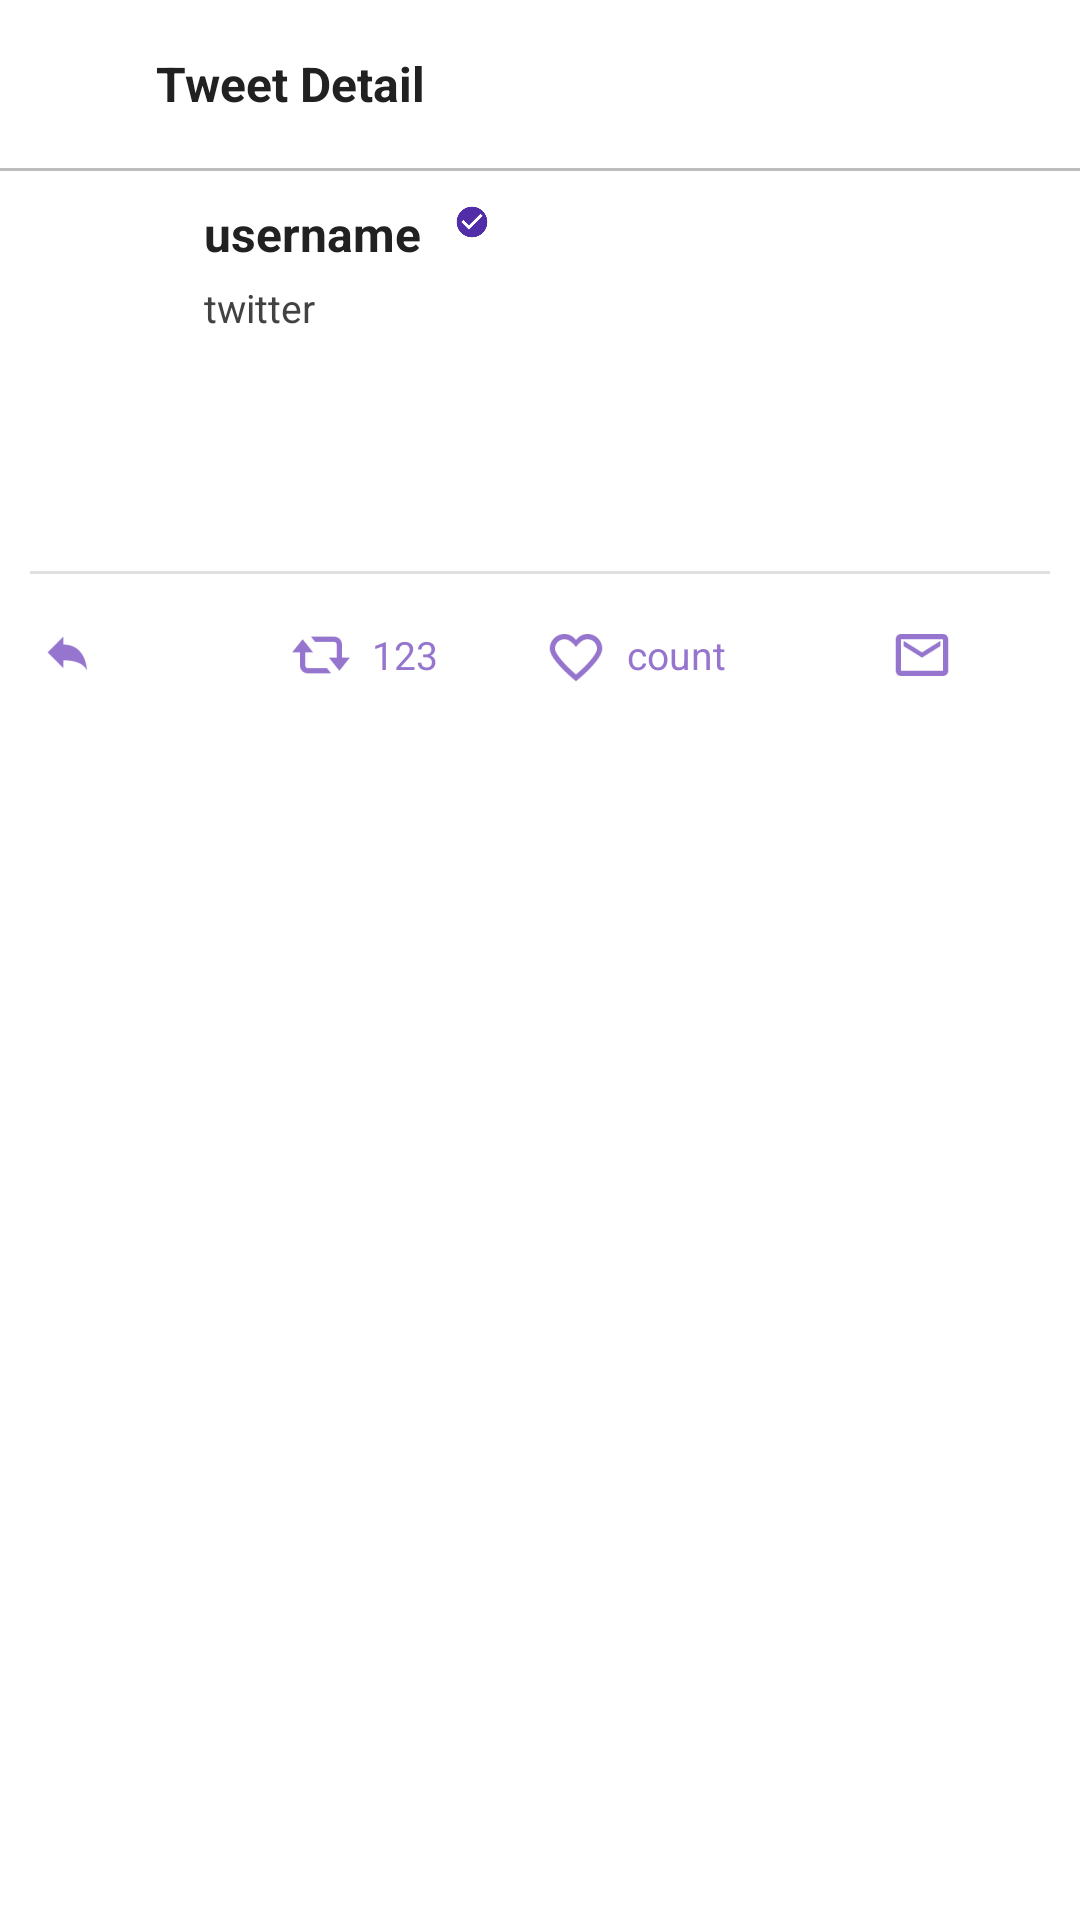

Icon bounding boxes for this 1080px x 1920px phone screenshot, format (x1, y1, x2, y2):
heart: (549, 634, 603, 681)
message: (895, 634, 949, 676)
reply: (47, 637, 87, 670)
retweet: (292, 636, 350, 674)
verified: (456, 206, 488, 238)
